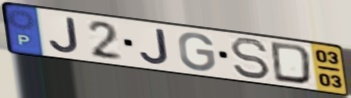2: (86, 19, 125, 62)
D: (269, 40, 314, 86)
G: (176, 31, 217, 73)
J: (47, 16, 82, 55), (138, 27, 172, 66)
S: (227, 36, 272, 81)
